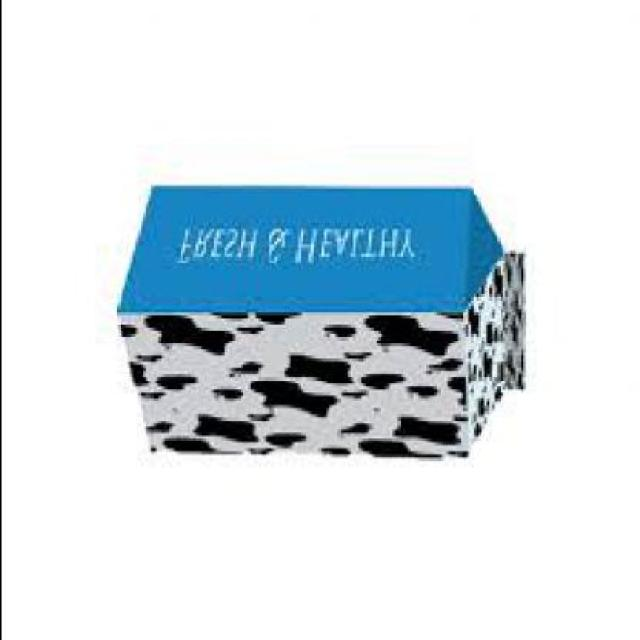CARDBOARD: (118, 188, 527, 461)
